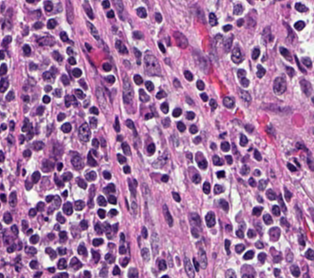nucleus: (144, 53, 160, 75), (123, 74, 132, 103), (86, 21, 99, 39), (174, 31, 187, 48), (273, 77, 286, 94), (96, 88, 106, 109), (79, 123, 90, 141), (163, 204, 172, 226), (71, 154, 83, 169), (231, 47, 242, 63), (83, 1, 93, 18), (115, 40, 127, 53), (66, 1, 73, 23), (239, 89, 250, 103), (151, 232, 158, 254), (262, 27, 272, 42), (114, 0, 122, 18), (126, 119, 135, 135), (205, 212, 214, 227), (190, 213, 200, 226), (269, 227, 279, 240), (224, 35, 232, 51), (38, 37, 54, 45), (87, 152, 96, 166), (65, 95, 76, 106), (223, 96, 233, 108), (128, 179, 135, 196), (0, 78, 8, 92), (278, 195, 285, 211), (105, 223, 113, 237), (42, 160, 52, 171), (256, 65, 265, 77), (139, 89, 148, 101), (197, 157, 206, 169), (219, 199, 228, 211), (63, 202, 72, 214), (9, 191, 16, 206), (122, 142, 130, 155), (233, 4, 243, 14), (136, 7, 146, 17), (1, 36, 11, 46), (52, 51, 62, 61), (74, 200, 84, 210), (54, 175, 63, 186), (258, 179, 267, 190), (266, 189, 275, 200), (263, 213, 272, 224), (22, 119, 30, 131), (43, 71, 53, 80), (33, 141, 43, 150), (220, 141, 229, 151), (213, 155, 222, 165), (240, 165, 249, 175), (85, 171, 95, 180), (77, 178, 86, 188), (104, 183, 114, 192), (56, 213, 65, 223), (3, 212, 11, 223), (209, 13, 216, 25), (53, 196, 60, 208), (47, 19, 56, 28), (102, 62, 111, 71), (240, 77, 249, 86), (75, 89, 84, 98), (61, 123, 70, 132), (97, 196, 106, 205), (44, 1, 52, 11), (184, 70, 192, 80), (79, 79, 87, 89), (145, 81, 153, 91), (89, 117, 97, 127), (192, 173, 200, 183), (252, 207, 262, 215), (252, 48, 259, 59), (161, 102, 168, 113), (240, 135, 247, 146), (147, 143, 154, 154), (32, 171, 39, 182), (272, 205, 279, 216), (225, 239, 230, 254), (0, 63, 6, 75), (72, 68, 81, 76), (237, 69, 245, 78), (134, 75, 142, 84), (196, 80, 204, 89), (156, 90, 165, 98), (172, 108, 181, 116), (177, 122, 185, 131), (266, 126, 274, 135), (117, 154, 125, 163), (62, 172, 71, 180), (214, 185, 223, 193), (172, 192, 180, 201), (36, 202, 44, 211), (97, 209, 105, 218), (158, 42, 165, 52), (23, 45, 30, 55), (114, 117, 119, 131), (59, 231, 66, 241), (92, 238, 102, 245), (203, 182, 209, 193), (141, 227, 147, 238), (106, 75, 114, 83), (186, 111, 194, 119), (245, 124, 253, 132), (247, 229, 255, 237), (30, 235, 38, 243), (133, 31, 142, 38), (60, 32, 67, 41), (61, 75, 68, 84), (6, 91, 13, 100), (36, 106, 43, 115), (162, 118, 169, 127), (254, 151, 261, 160), (225, 155, 232, 164), (80, 220, 87, 229), (95, 224, 102, 233), (191, 228, 198, 237), (210, 99, 216, 109), (131, 201, 136, 213), (11, 225, 17, 235), (173, 79, 180, 87), (54, 88, 61, 96), (90, 107, 98, 114), (190, 125, 197, 133), (26, 131, 33, 139), (23, 149, 30, 157), (103, 171, 110, 179), (248, 178, 255, 186), (46, 195, 54, 202), (108, 196, 116, 203), (29, 208, 36, 216), (236, 229, 243, 237), (255, 241, 263, 248), (155, 13, 161, 22), (134, 48, 140, 57), (92, 138, 98, 147), (25, 180, 31, 189), (68, 57, 75, 64), (57, 113, 64, 120), (193, 136, 200, 143), (34, 22, 42, 28), (223, 25, 231, 31), (85, 43, 91, 51), (43, 95, 49, 103), (186, 153, 192, 161), (216, 171, 224, 177), (109, 209, 117, 215), (0, 193, 5, 202), (22, 220, 27, 229), (102, 1, 109, 7), (237, 19, 243, 26), (67, 47, 73, 54), (44, 85, 51, 91), (201, 93, 207, 100), (186, 97, 192, 104), (145, 113, 152, 119), (123, 166, 129, 173), (161, 175, 168, 181), (47, 233, 54, 239), (19, 135, 24, 143), (107, 11, 113, 17), (30, 63, 36, 69), (10, 121, 14, 130), (254, 169, 260, 175), (225, 224, 231, 230), (23, 95, 28, 102), (57, 163, 62, 170), (0, 151, 3, 162), (120, 233, 124, 241), (1, 124, 6, 130), (8, 137, 13, 143), (26, 229, 32, 234), (108, 243, 114, 248), (62, 191, 67, 196), (36, 11, 40, 17), (23, 28, 27, 34), (0, 50, 3, 58), (84, 100, 88, 106), (211, 143, 215, 149), (113, 225, 116, 232), (18, 242, 21, 249), (1, 4, 3, 12), (258, 197, 262, 201)
